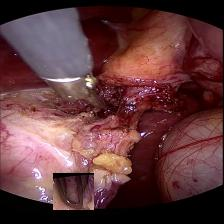Grasper: (53, 172, 94, 209)
Scissors: (45, 64, 113, 118)
